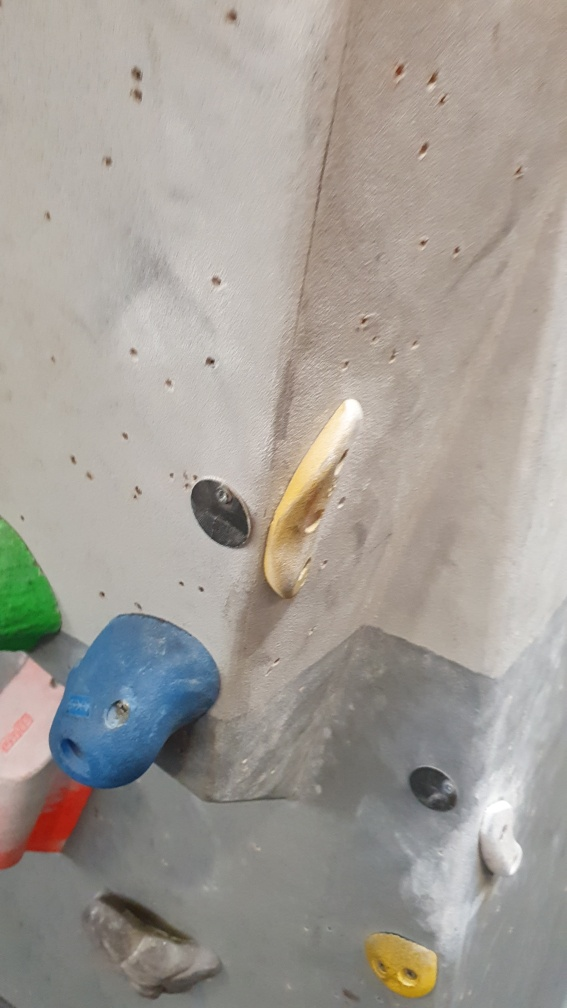Hand Start: (187, 473, 253, 551), (402, 759, 463, 815)
Jug: (75, 885, 226, 1005)
